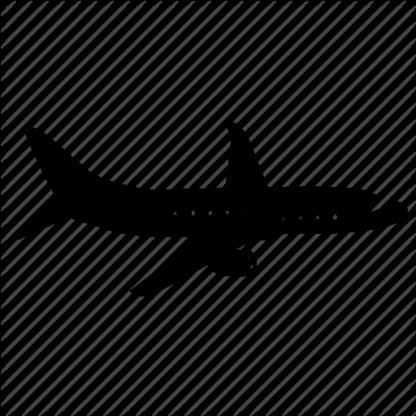CIV_Plane: (14, 121, 409, 296)
